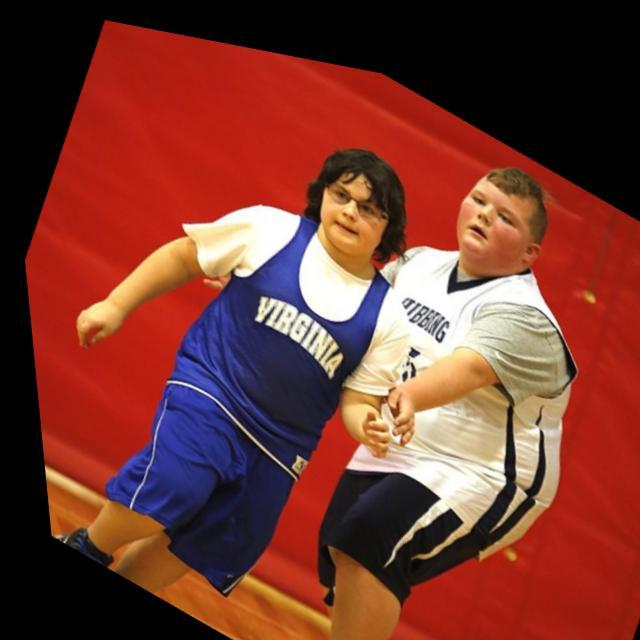Nonhelmet: (439, 156, 549, 280), (304, 142, 400, 262)
